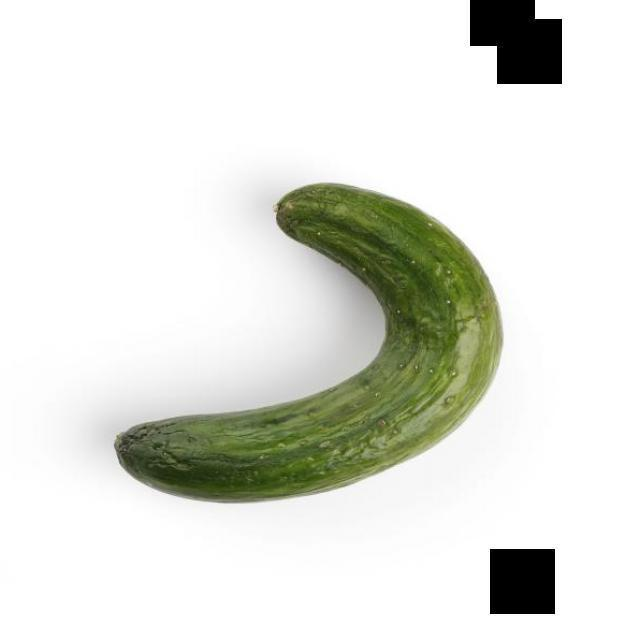cucumber: (107, 181, 514, 508)
